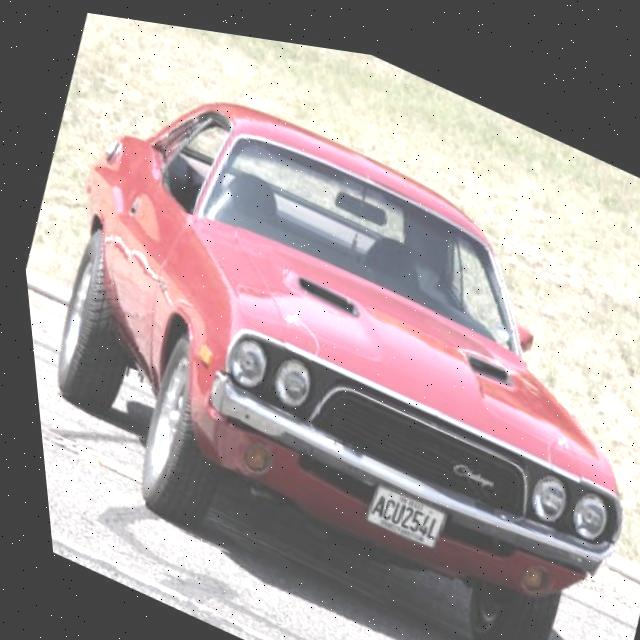license_plate: (352, 469, 440, 544)
